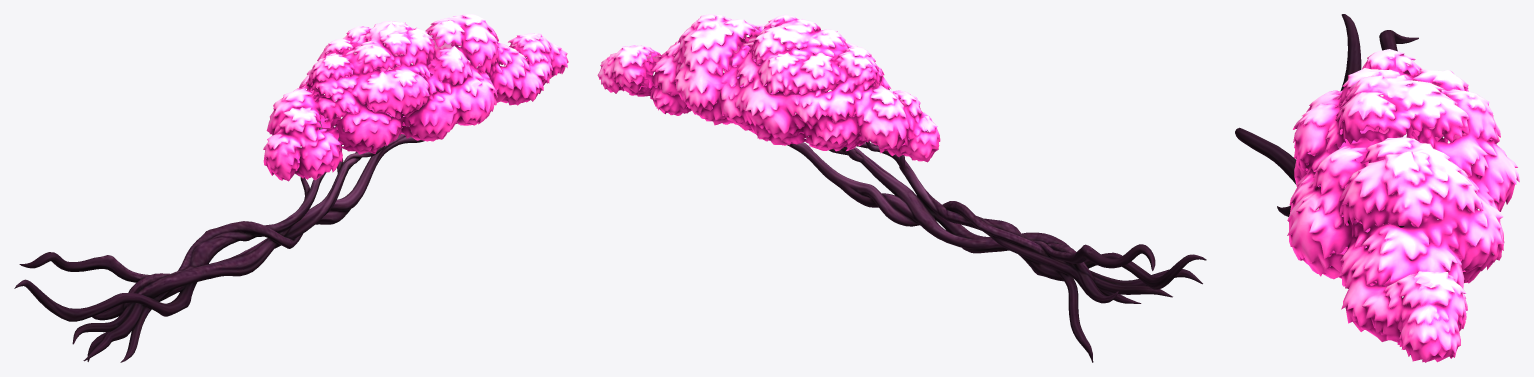
The model's file is sky_tree_02c_chaos_v35.glb.
3 views of the same model, side by side, from view 1: azimuth 30°, elevation 25°; view 2: azimuth 150°, elevation 25°; view 3: azimuth 270°, elevation 25° (orthographic). The views are drawn at different scales.
Visible parts, largest first — view 1: tree_02c; view 2: tree_02c; view 3: tree_02c.
Boxes of the visible parts, left/top/right/bottom form: tree_02c: left=14, top=14, right=568, bottom=362; tree_02c: left=597, top=14, right=1206, bottom=362; tree_02c: left=1235, top=14, right=1519, bottom=362.
Bounding box in the file's own units: 17.2 × 7.47 × 4.64.
2 materials, 2 textured.
